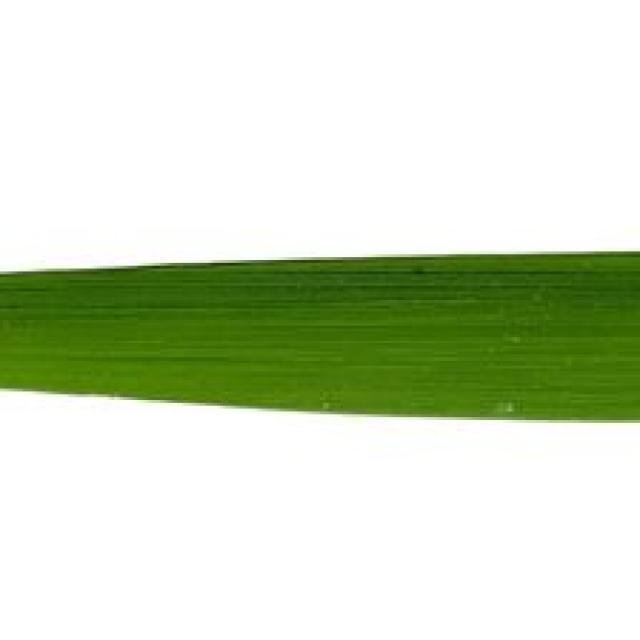Rice___Healthy_Rice_Plant: (0, 252, 637, 426)
